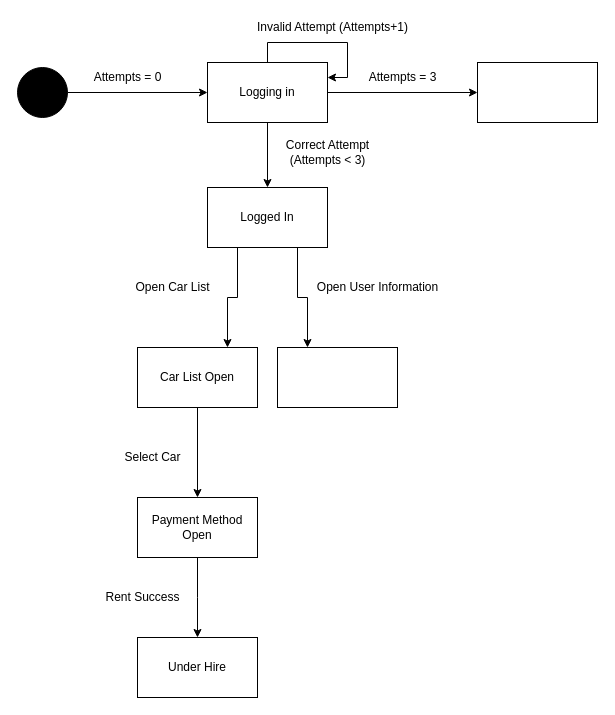
Some shapes in this 615 by 715 pixel diagram are drawn without their labels. Here are the shapes that lost their labels. From the top down, the centre of each, then its label:
point 537,92: Login Denied
point 337,377: Profile Open
